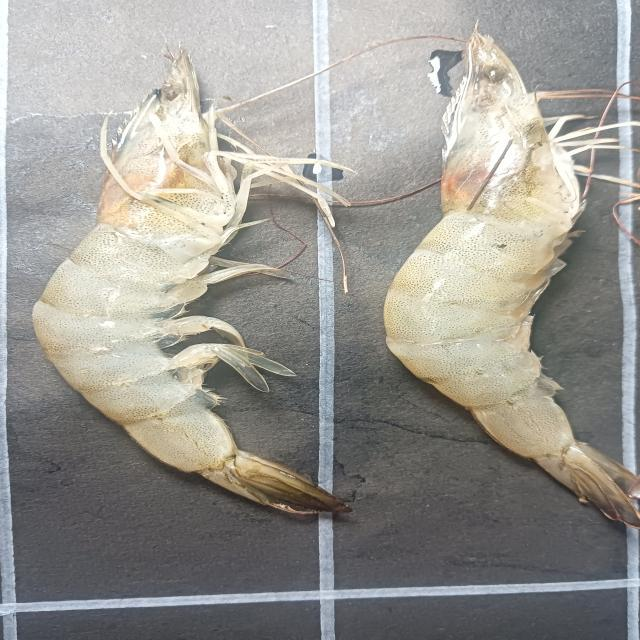shrimp: (33, 51, 350, 514), (385, 34, 640, 528)
